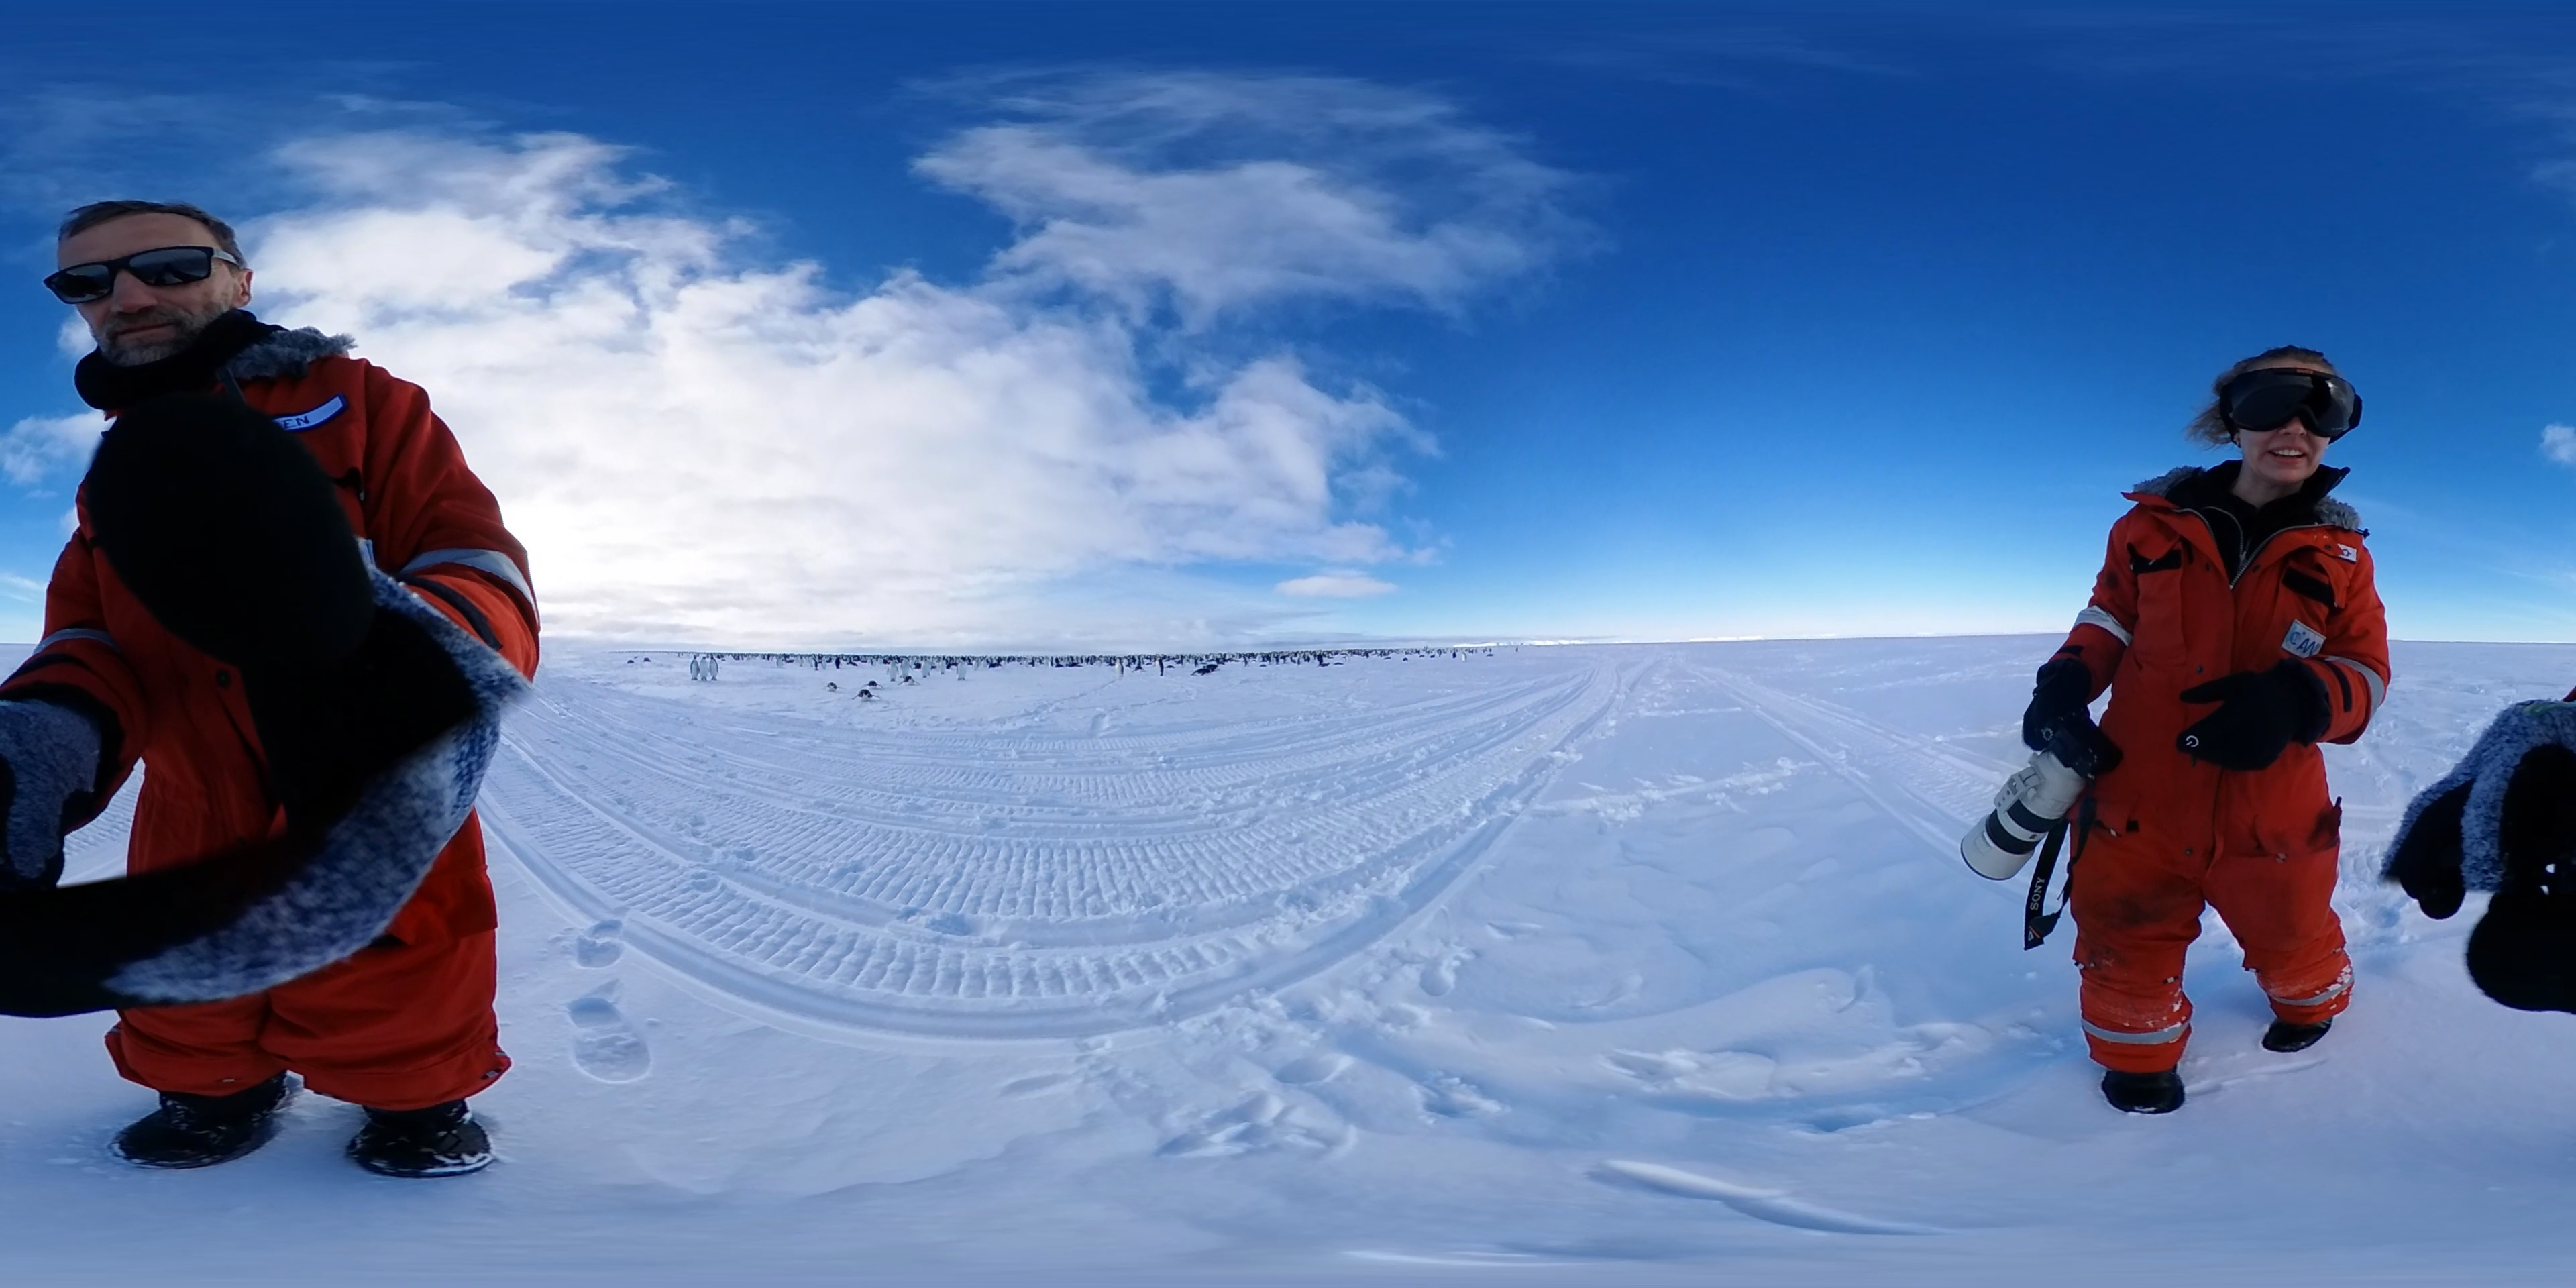adult_standing_penguin: (708, 654, 721, 685), (687, 654, 701, 680), (698, 654, 710, 680)
adult_toboggan_penguin: (853, 685, 881, 701), (816, 680, 843, 692), (899, 675, 917, 688), (862, 678, 882, 690)
researcher: (11, 192, 557, 1199), (2029, 324, 2405, 1129)
